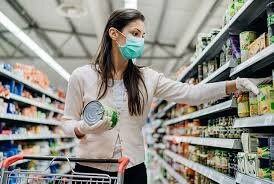with_basket: (1, 152, 128, 184)
with_mask: (105, 6, 145, 63)
